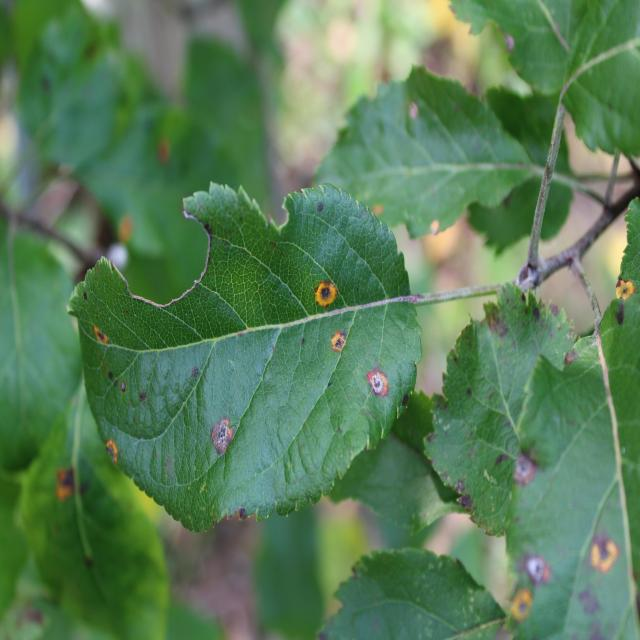Rust: (582, 510, 623, 580), (520, 526, 554, 592), (506, 440, 548, 492), (358, 359, 394, 407), (205, 417, 235, 465), (88, 307, 119, 348), (604, 270, 640, 305), (309, 275, 339, 312), (96, 436, 127, 470), (320, 324, 351, 354)
